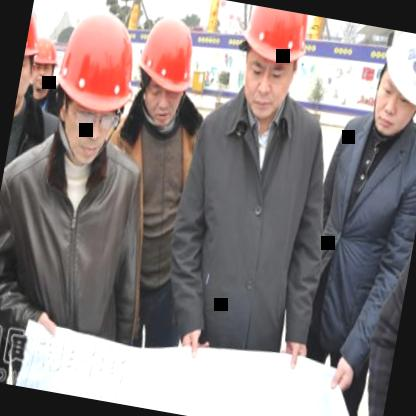helmet: (46, 18, 136, 163), (122, 10, 204, 145), (232, 5, 312, 124), (364, 29, 416, 146), (13, 0, 43, 116), (23, 24, 61, 104)
